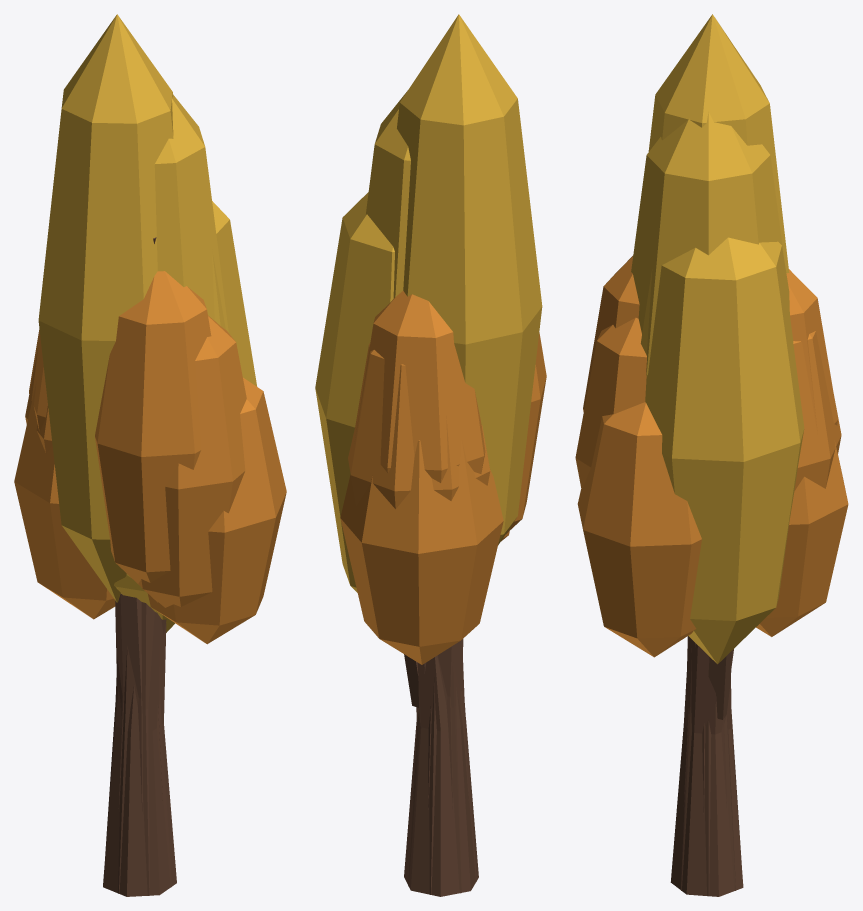
Rendered from tree_poplar_autumn.glb.
3 renders of one model, left to right at view 1: azimuth 30°, elevation 25°; view 2: azimuth 150°, elevation 25°; view 3: azimuth 270°, elevation 25°, orthographic.
Parts seen in each view (by area): view 1: Poplar_tall_column_canopy.002, Poplar_upright_lobe_canopy.005, Poplar_upright_lobe_canopy.001, Poplar_upright_lobe_canopy.003, Poplar_upright_trunk.001, Poplar_tall_column_canopy, Poplar_upright_lobe_canopy.002, Poplar_upright_trunk, Poplar_tall_column_canopy.001, Poplar_upright_trunk.002, Poplar_upright_lobe_canopy.004, Poplar_upright_lobe_canopy; view 2: Poplar_tall_column_canopy.002, Poplar_upright_lobe_canopy.002, Poplar_tall_column_canopy.001, Poplar_upright_lobe_canopy.004, Poplar_upright_trunk.001, Poplar_upright_lobe_canopy, Poplar_tall_column_canopy, Poplar_upright_trunk, Poplar_upright_lobe_canopy.005, Poplar_upright_trunk.002, Poplar_upswept_bough.004; view 3: Poplar_tall_column_canopy.001, Poplar_upright_lobe_canopy.003, Poplar_tall_column_canopy, Poplar_upright_trunk.001, Poplar_tall_column_canopy.002, Poplar_upright_lobe_canopy.002, Poplar_upright_lobe_canopy.001, Poplar_upright_lobe_canopy, Poplar_upright_lobe_canopy.004, Poplar_upright_trunk, Poplar_upright_lobe_canopy.005, Poplar_upswept_bough.004 (+1 smaller).
Boxes of the visible parts, x1,y1,x2,y2 form: Poplar_tall_column_canopy.002: (38,14,173,602); Poplar_upright_lobe_canopy.005: (95,271,211,602); Poplar_upright_lobe_canopy.001: (138,315,246,607); Poplar_upright_lobe_canopy.003: (147,377,286,644); Poplar_upright_trunk.001: (103,612,176,896); Poplar_tall_column_canopy: (126,94,228,577); Poplar_upright_lobe_canopy.002: (14,381,115,619); Poplar_upright_trunk: (105,602,171,895); Poplar_tall_column_canopy.001: (114,201,257,632); Poplar_upright_trunk.002: (115,593,162,811); Poplar_upright_lobe_canopy.004: (29,329,47,432); Poplar_upright_lobe_canopy: (25,348,52,453); Poplar_tall_column_canopy.002: (397,14,542,545); Poplar_upright_lobe_canopy.002: (340,439,503,664); Poplar_tall_column_canopy.001: (315,192,394,592); Poplar_upright_lobe_canopy.004: (354,291,485,482); Poplar_upright_trunk.001: (404,656,478,896); Poplar_upright_lobe_canopy: (348,343,490,509); Poplar_tall_column_canopy: (366,90,410,298); Poplar_upright_trunk: (408,655,476,894); Poplar_upright_lobe_canopy.005: (506,332,546,533); Poplar_upright_trunk.002: (413,639,468,809); Poplar_upswept_bough.004: (404,654,418,707); Poplar_tall_column_canopy.001: (640,237,804,664); Poplar_upright_lobe_canopy.003: (577,402,701,657); Poplar_tall_column_canopy: (631,112,784,376); Poplar_upright_trunk.001: (670,637,743,896); Poplar_tall_column_canopy.002: (648,14,789,273); Poplar_upright_lobe_canopy.002: (756,442,848,636); Poplar_upright_lobe_canopy.001: (575,317,646,490); Poplar_upright_lobe_canopy: (793,331,841,491); Poplar_upright_lobe_canopy.004: (786,269,837,434); Poplar_upright_trunk: (680,636,741,896); Poplar_upright_lobe_canopy.005: (583,255,639,411); Poplar_upswept_bough.004: (708,650,732,719).
Bounding box in the file's own units: 1.03 × 4.32 × 1.25.
